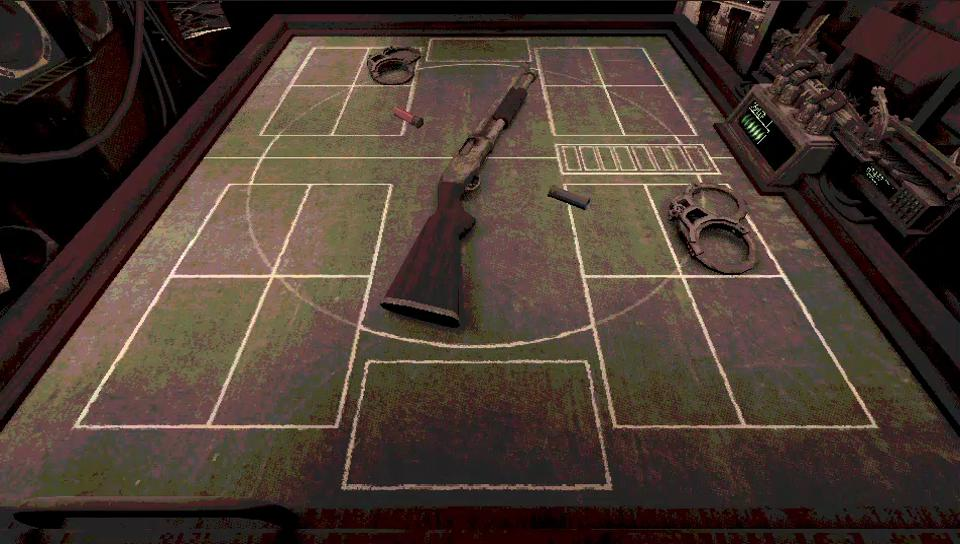emptyspace: (71, 275, 271, 428), (691, 276, 871, 427), (585, 273, 748, 427), (209, 274, 371, 424), (167, 181, 307, 275), (273, 184, 391, 280), (566, 182, 679, 278), (608, 83, 699, 132), (333, 85, 412, 137), (547, 86, 621, 136), (590, 42, 666, 85), (296, 46, 366, 87), (537, 48, 601, 85)
gun: (380, 68, 537, 328)
handcuff: (669, 184, 758, 273)
